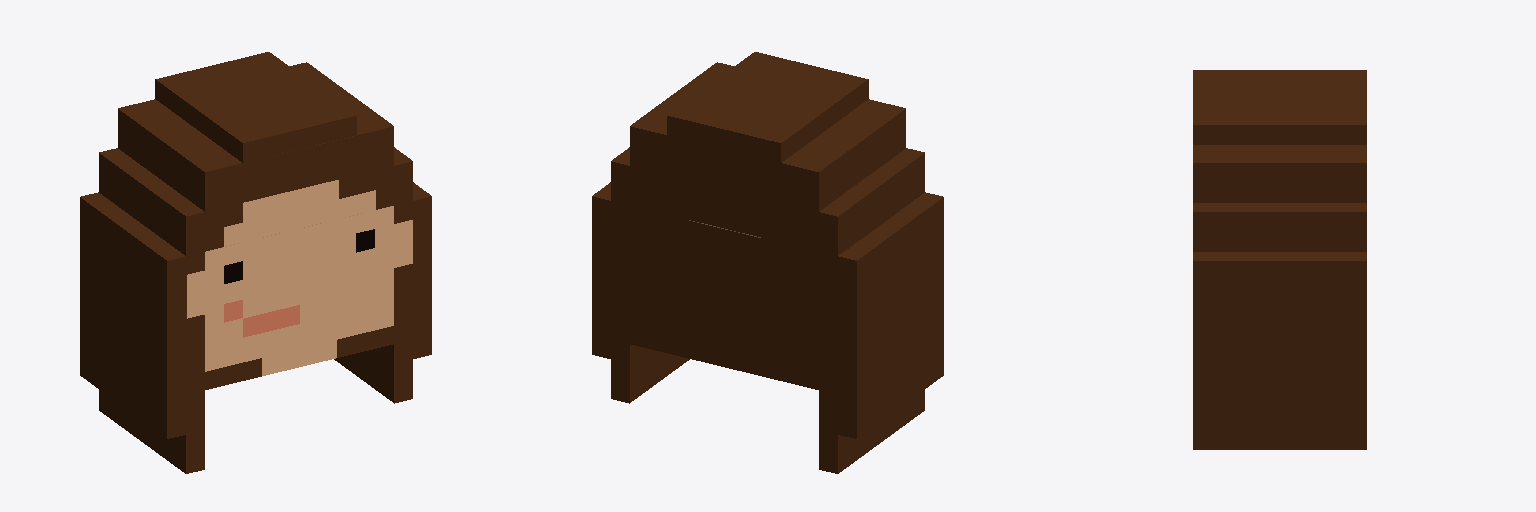
3 renders of one model, left to right at view 1: azimuth 30°, elevation 25°; view 2: azimuth 150°, elevation 25°; view 3: azimuth 270°, elevation 25°, orthographic.
Parts seen in each view (by area): view 1: head_Plane.003; view 2: head_Plane.003; view 3: head_Plane.003.
Boxes of the visible parts, <box> form: head_Plane.003: <box>80,52,431,473</box>; head_Plane.003: <box>592,52,943,473</box>; head_Plane.003: <box>1193,70,1366,449</box>.
Size of the model in its own units: 0.0904 by 0.1033 by 0.0516.
Materials: 1 (1 with a texture image).